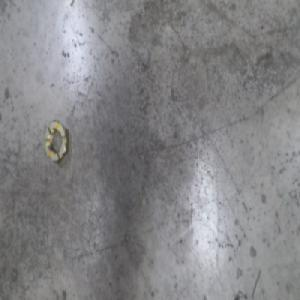Nut: (41, 116, 69, 164)
